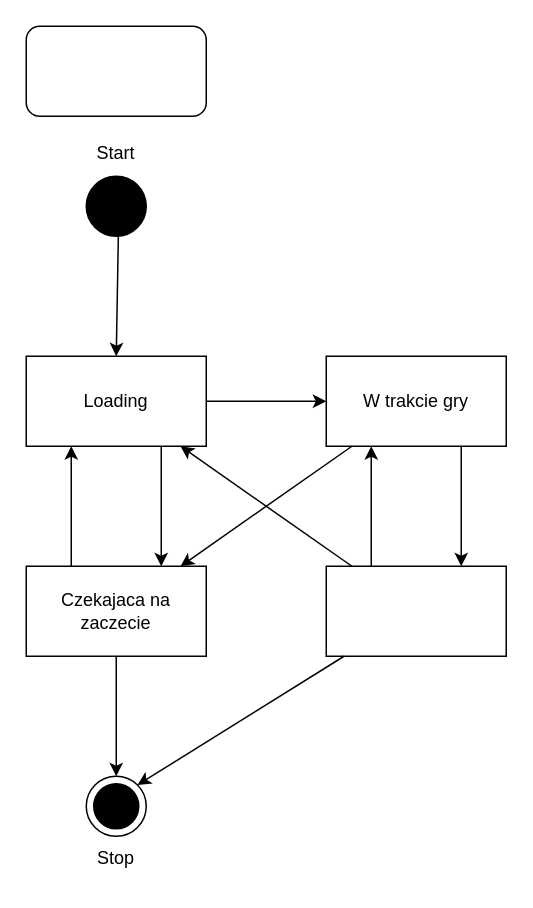
Image size: 533x908. Some labels were removed from this diagram. Each missing label, with the centre of its shape:
Gra pacman: the point at 115,70
Zpauzowana: the point at 415,610
